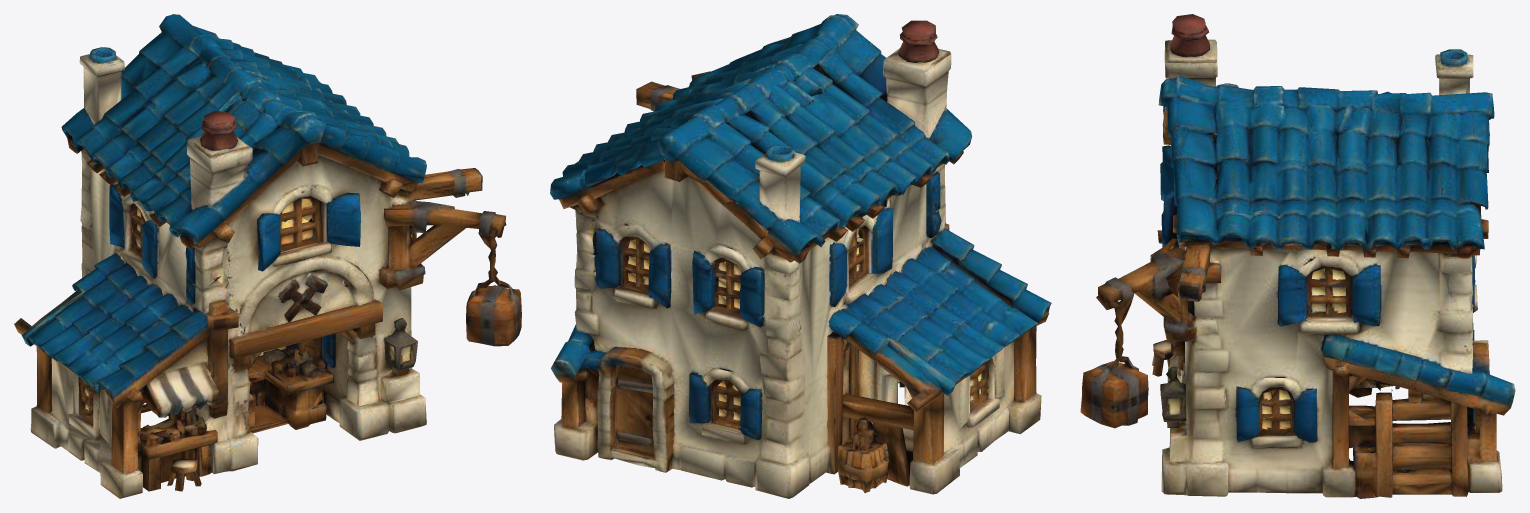
The picture shows the model from 3 angles, left to right: view 1: azimuth 30°, elevation 25°; view 2: azimuth 150°, elevation 25°; view 3: azimuth 270°, elevation 25°; orthographic projection. The views are drawn at different scales.
Parts seen in each view (by area): view 1: harbor__builders_guild__neural_lod, harbor__builders_guild__neural_pendulum; view 2: harbor__builders_guild__neural_lod; view 3: harbor__builders_guild__neural_lod, harbor__builders_guild__neural_pendulum.
Boxes of the visible parts, x1,y1,x2,y2 form: harbor__builders_guild__neural_lod: (14,14,505,498); harbor__builders_guild__neural_pendulum: (446,218,521,346); harbor__builders_guild__neural_lod: (550,14,1051,498); harbor__builders_guild__neural_lod: (1098,14,1515,498); harbor__builders_guild__neural_pendulum: (1080,287,1152,428).
Bounding box in the file's own units: 0.9981 × 0.8746 × 0.9038.
1 material, 1 textured.
